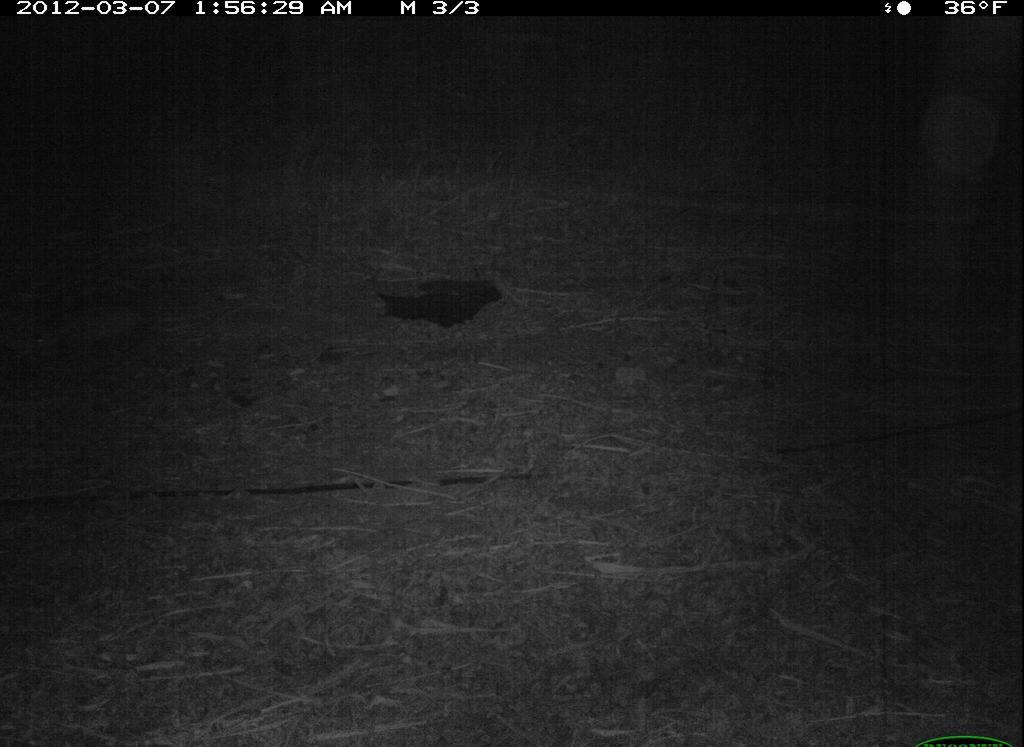opossum: (20, 290, 207, 365)
